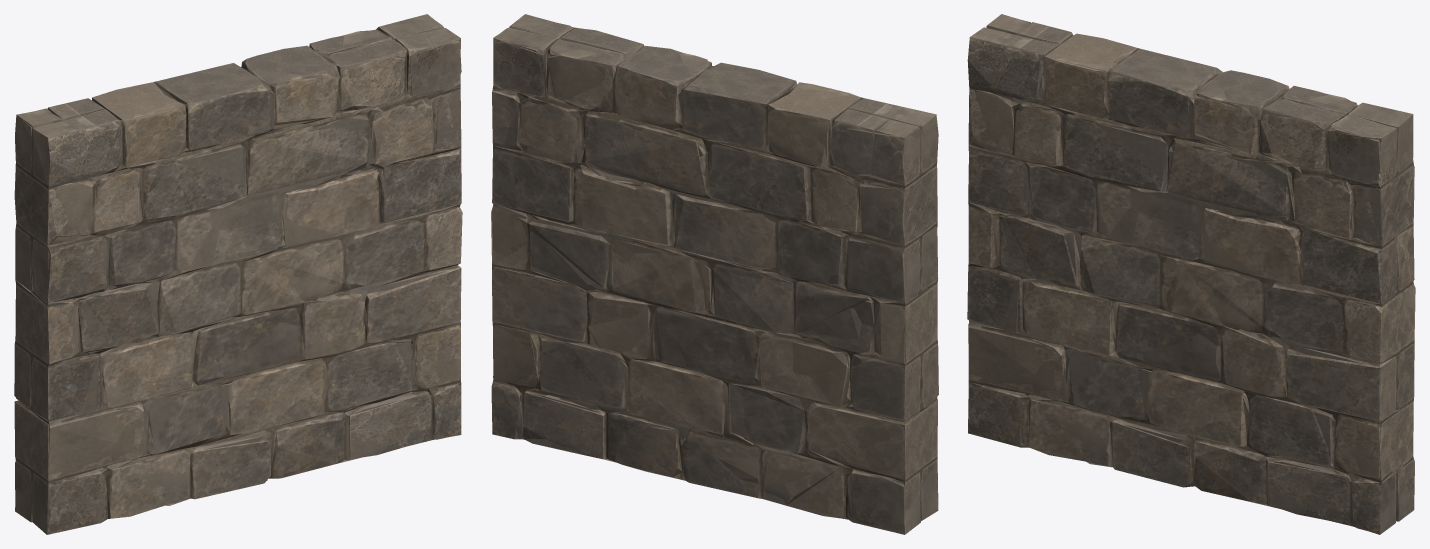
Rendered from wall_plain.glb.
3 views of the same model, side by side, from view 1: azimuth 30°, elevation 25°; view 2: azimuth 150°, elevation 25°; view 3: azimuth 330°, elevation 25° (orthographic).
Visible parts, largest first — view 1: output_unwrapped; view 2: output_unwrapped; view 3: output_unwrapped.
Part boxes in pixels (x1=…): output_unwrapped: x1=14, y1=14, x2=462, y2=534; output_unwrapped: x1=491, y1=14, x2=938, y2=534; output_unwrapped: x1=967, y1=14, x2=1415, y2=534.
Bounding box in the file's own units: 1.9 × 1.74 × 0.294.
Materials: 1 (1 with a texture image).
